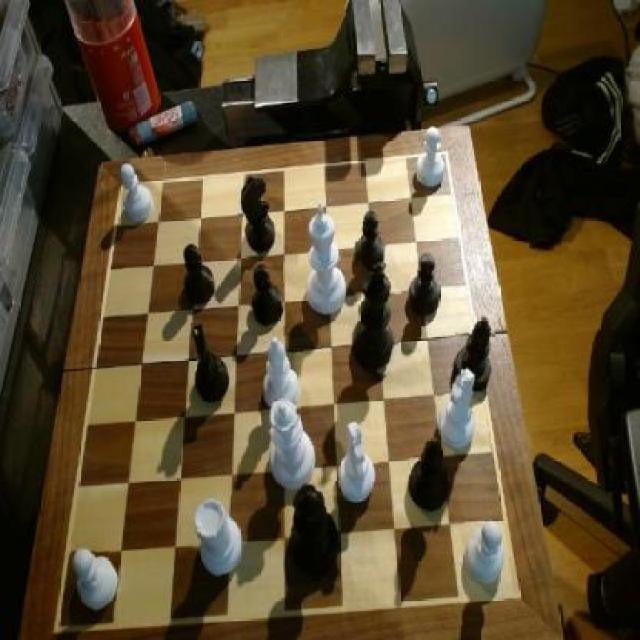bishop: (454, 314, 496, 391), (408, 437, 448, 511)
black-bishop: (354, 261, 403, 374)
black-king: (190, 323, 234, 404), (237, 177, 279, 260)
black-knight: (406, 254, 444, 321), (249, 262, 286, 326), (180, 243, 216, 306), (354, 211, 388, 272)
black-pawn: (289, 483, 339, 579)
black-rook: (263, 337, 303, 415)
white-bishop: (303, 202, 349, 319)
white-king: (337, 419, 380, 506), (437, 368, 481, 452)
white-knight: (68, 545, 119, 616), (464, 520, 508, 589), (118, 160, 156, 225), (412, 126, 448, 193)
white-pawn: (266, 397, 320, 493)
white-queen: (192, 494, 247, 581)
